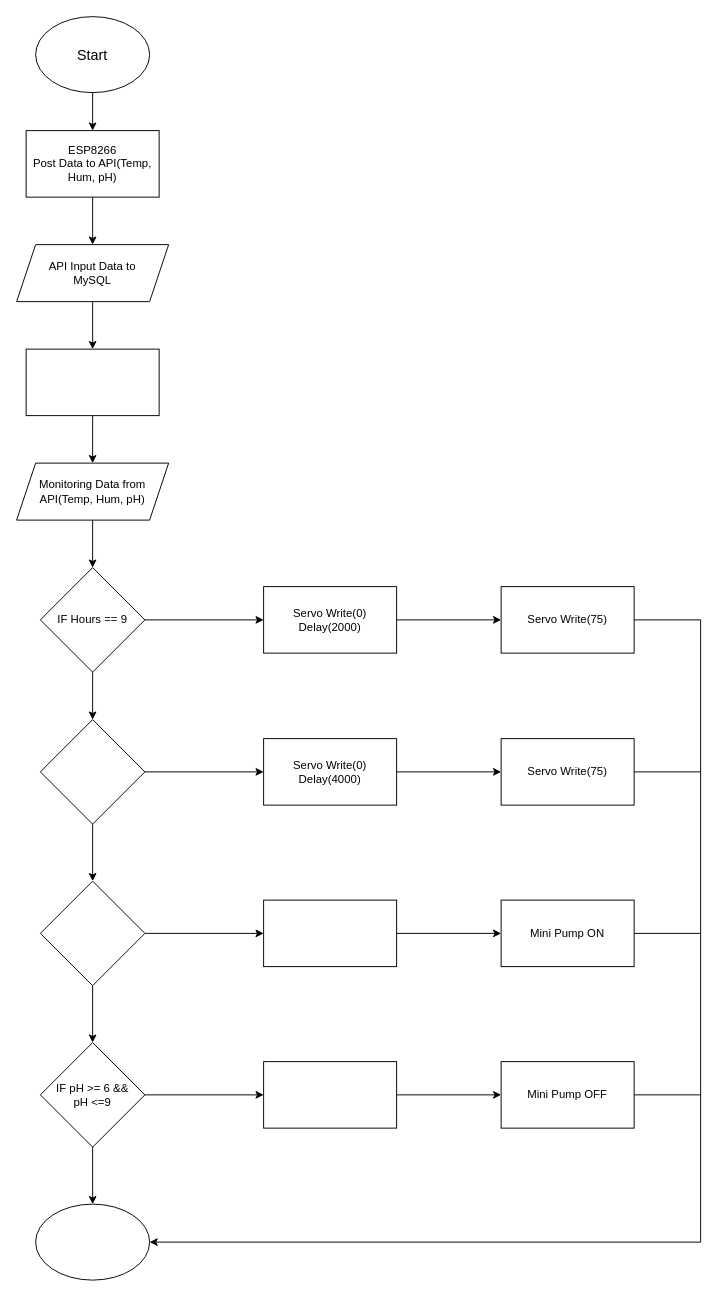
The diagram is 725 pixels wide and 1297 high, and some of its shapes have lost their labels. Here are the shapes that lost their labels. From the top down, the centre of each, then its label:
At point 92,382: "Communication API to Flutter App".
At point 92,771: "IF Hours == 16".
At point 92,933: "IF pH<=6 && pH >= 9".
At point 330,933: "Relay : On".
At point 330,1094: "Relay : Off".
At point 92,1241: "Finish".
